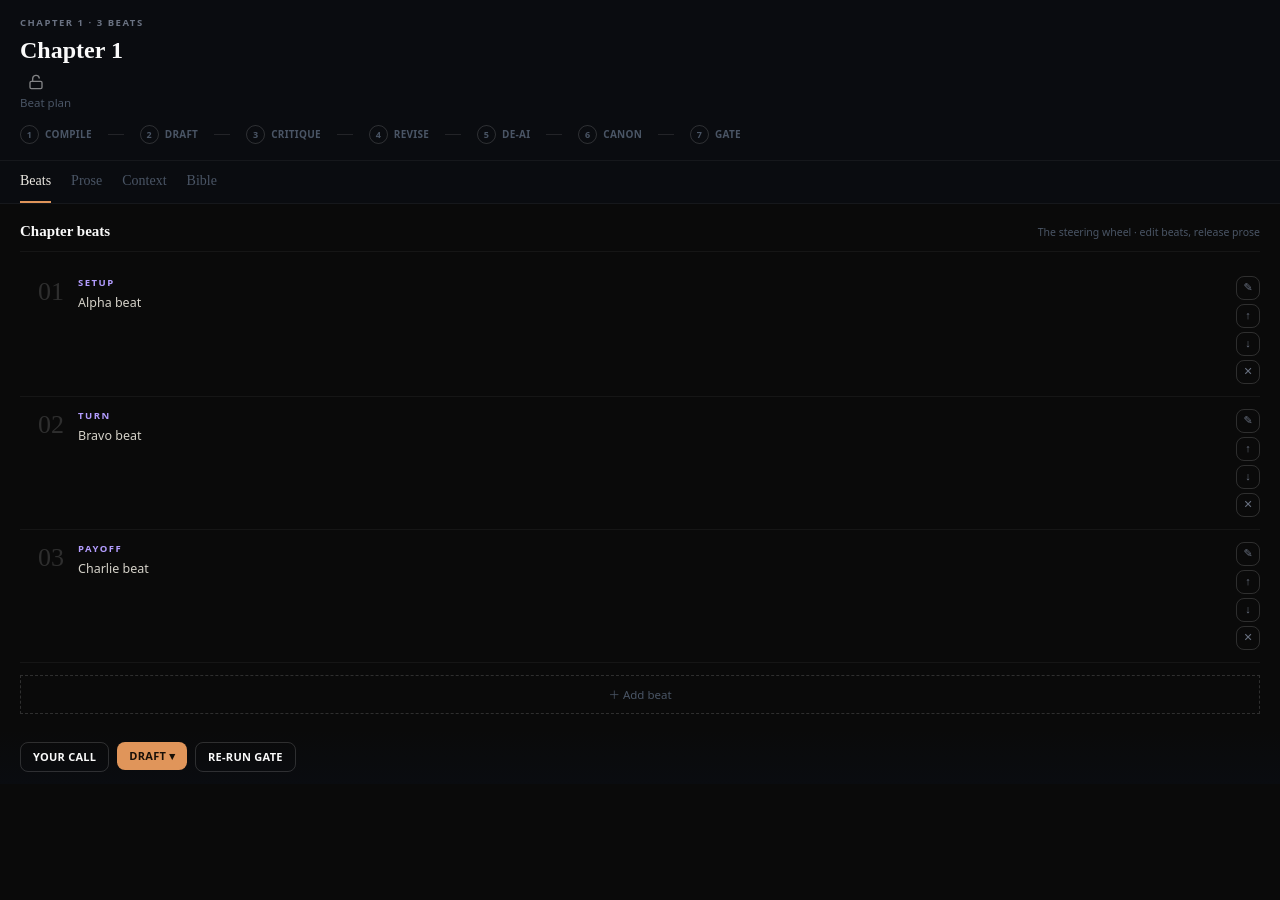
Test case: DeckWorkspace — beat delete control › deleting the middle beat splices index 1 and persists the remaining beats via PATCH /outline/:id
The image size is (1280, 900).
Click the 2nd button titled "Delete beat".
click(1248, 505)  # box [1236, 493, 1260, 517]
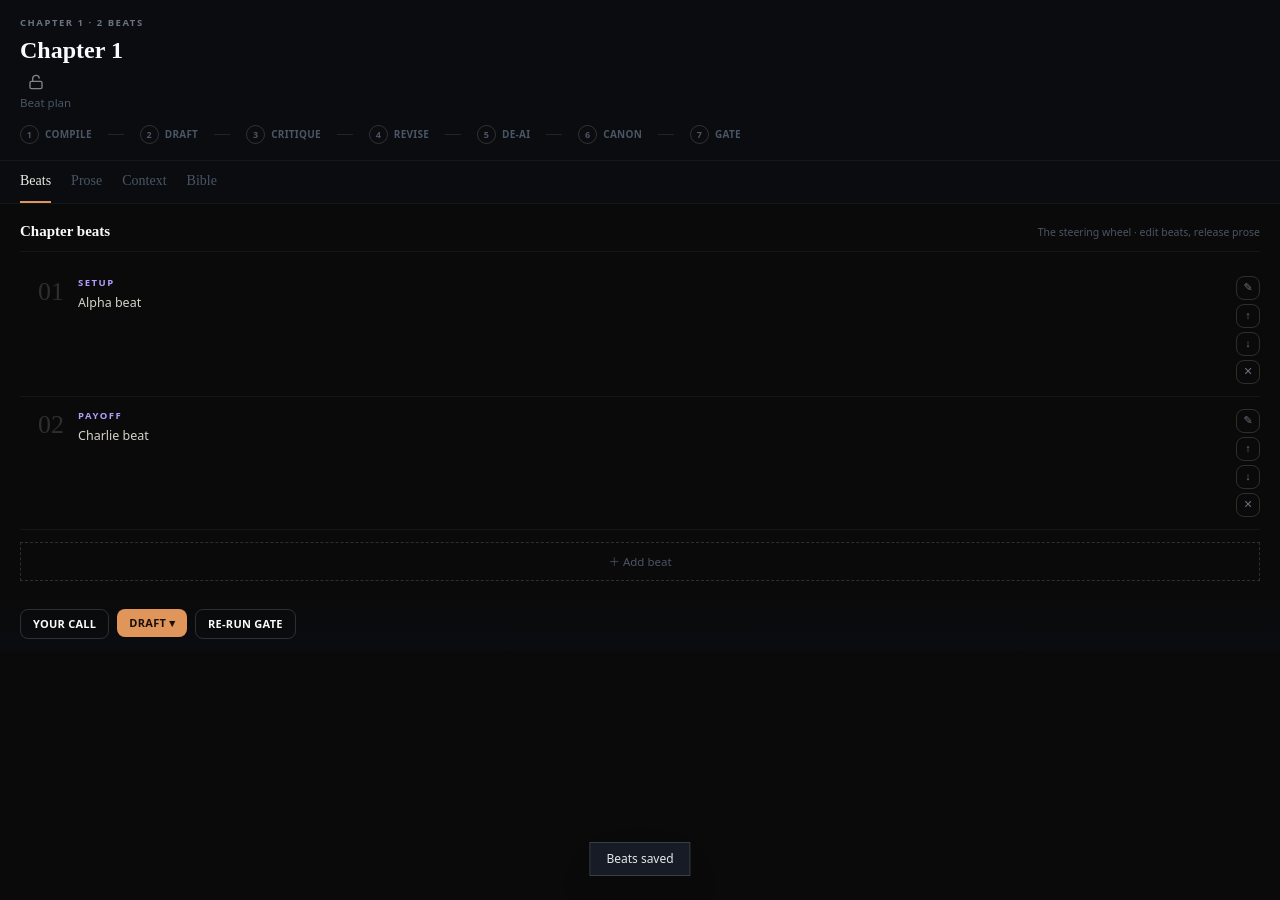
Check: the text "Alpha beat" is shown, box [78, 294, 141, 311]
Check: the text "Bravo beat" is gone
